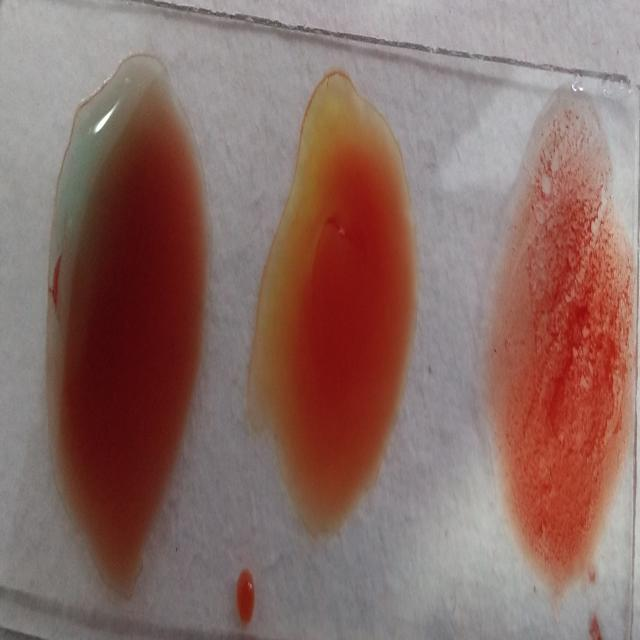D: (488, 95, 631, 584)
